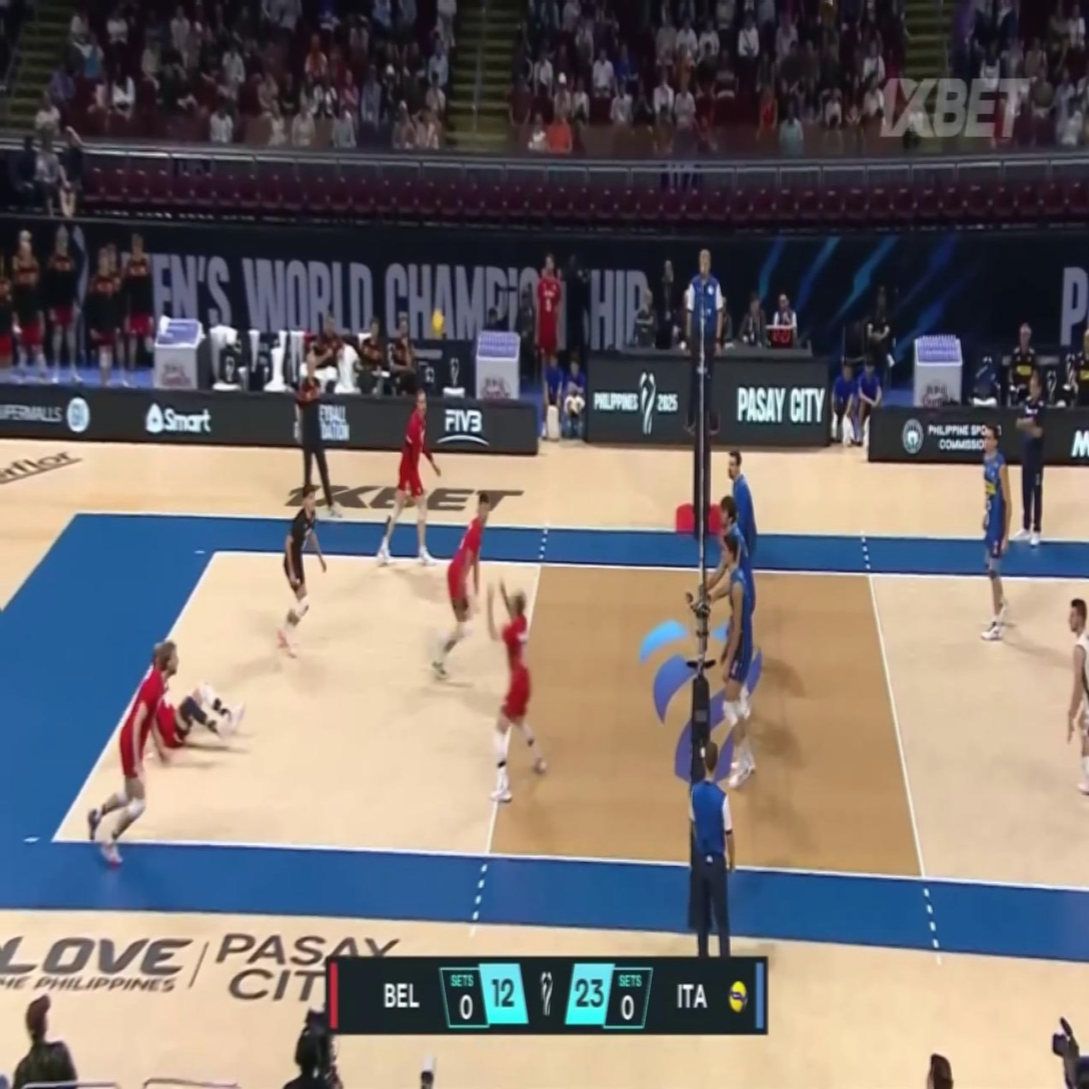ball: (430, 311, 444, 336)
